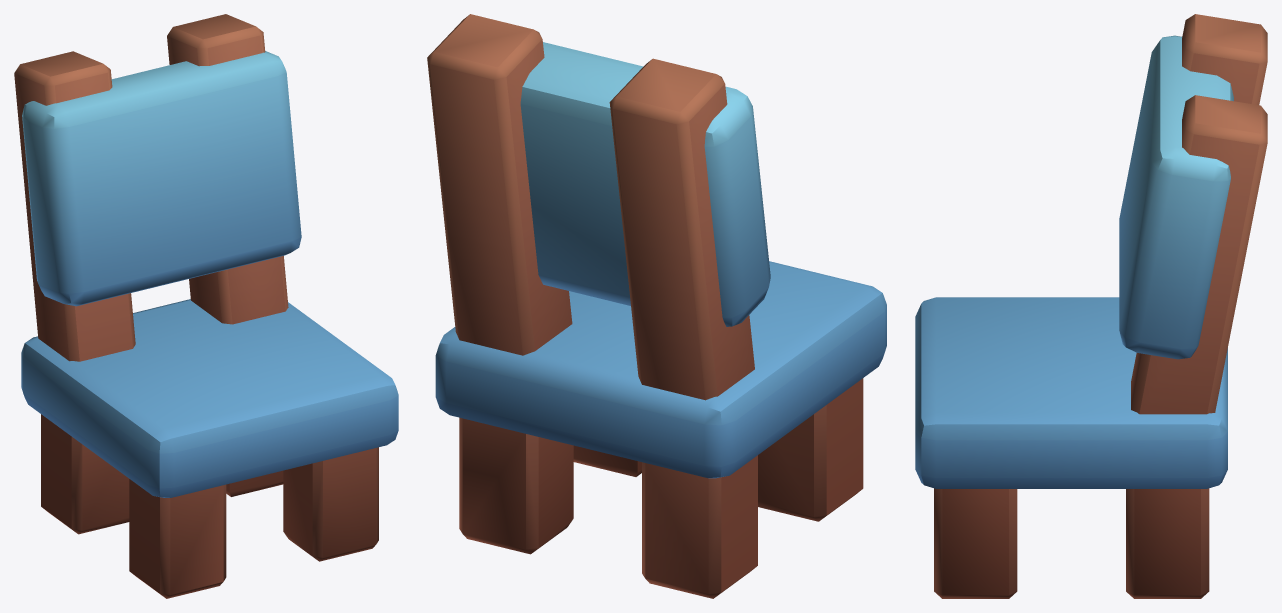
The picture shows the model from 3 angles, left to right: view 1: azimuth 30°, elevation 25°; view 2: azimuth 150°, elevation 25°; view 3: azimuth 270°, elevation 25°; orthographic projection. The views are drawn at different scales.
Parts seen in each view (by area): view 1: chair_B; view 2: chair_B; view 3: chair_B.
Part boxes in pixels (left/top/right/bottom): chair_B: left=14, top=14, right=398, bottom=598; chair_B: left=427, top=14, right=886, bottom=598; chair_B: left=915, top=14, right=1267, bottom=598.
Size of the model in its own units: 0.75 by 1.26 by 0.8451.
1 material, 1 textured.
